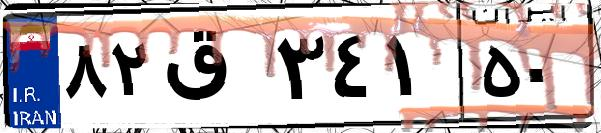0: (525, 38, 570, 115)
1: (385, 28, 445, 110)
2: (110, 28, 158, 98)
3: (270, 28, 330, 110)
4: (330, 28, 385, 110)
5: (475, 38, 525, 113)
8: (57, 26, 110, 100)
ق: (158, 20, 270, 120)
